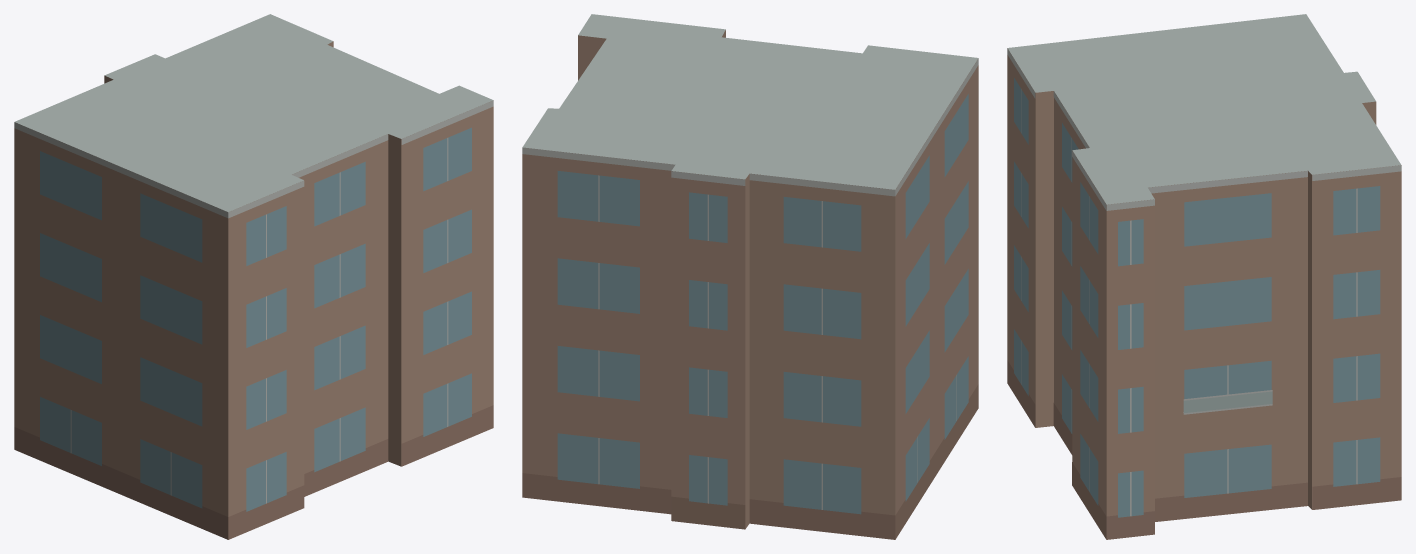
Rendered from survey-upis-32705753.glb.
The picture shows the model from 3 angles, left to right: view 1: azimuth 30°, elevation 25°; view 2: azimuth 150°, elevation 25°; view 3: azimuth 270°, elevation 25°; orthographic projection. The views are drawn at different scales.
Visible parts, largest first — view 1: survey-upis-32705753.tmp; view 2: survey-upis-32705753.tmp; view 3: survey-upis-32705753.tmp.
Boxes of the visible parts, bbox=[...] form: survey-upis-32705753.tmp: bbox=[14, 14, 493, 539]; survey-upis-32705753.tmp: bbox=[522, 14, 978, 539]; survey-upis-32705753.tmp: bbox=[1007, 14, 1401, 539].
Size of the model in its own units: 15.74 by 12.9 by 13.76.
